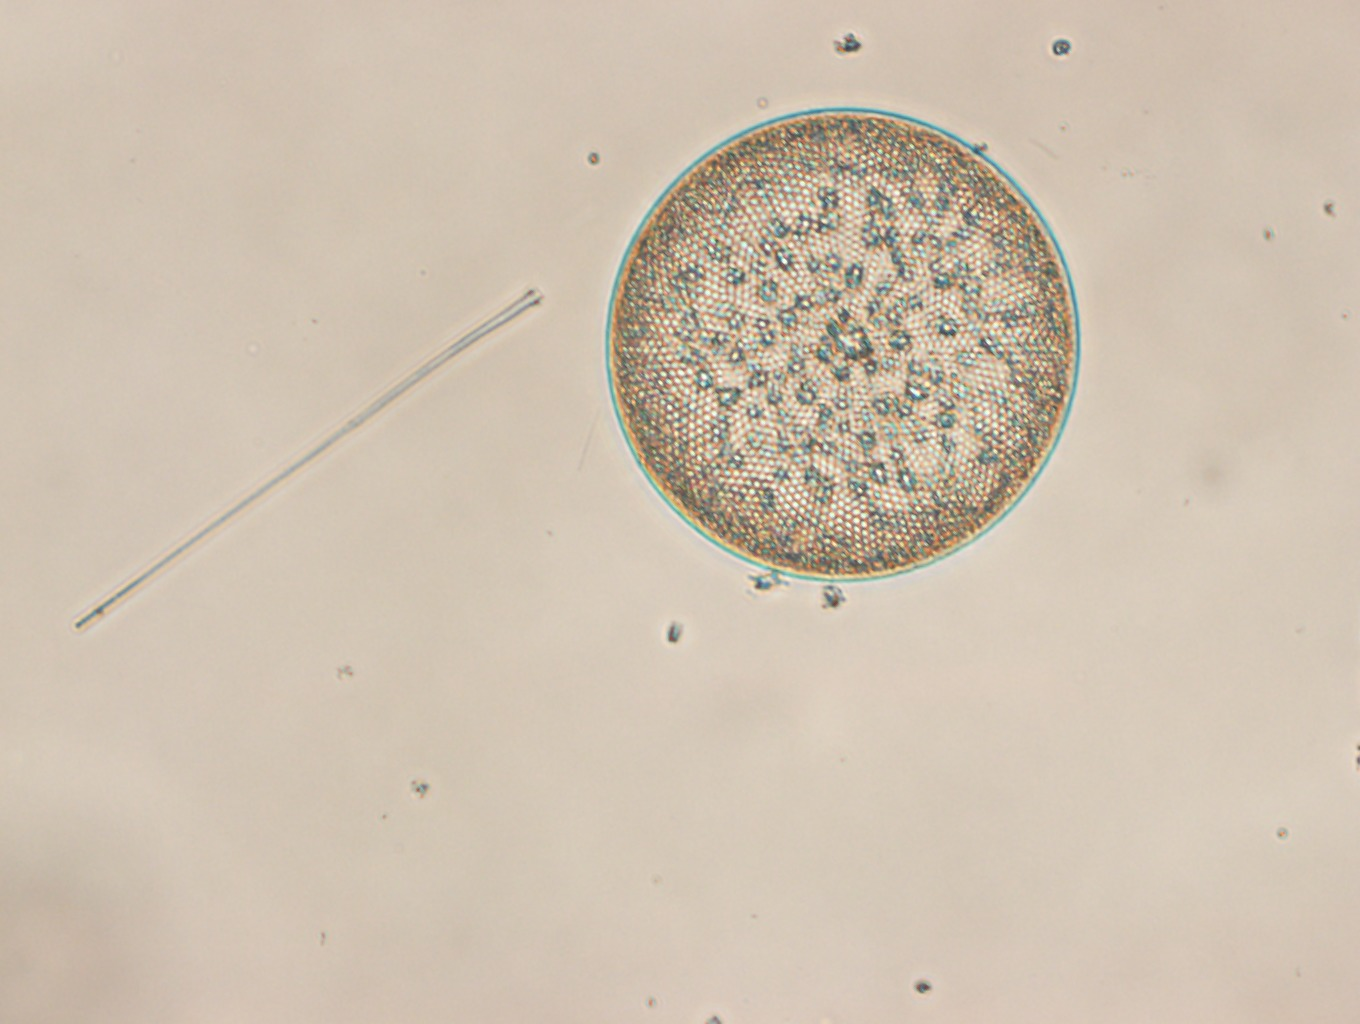coscinodiscus: (603, 105, 1080, 582)
